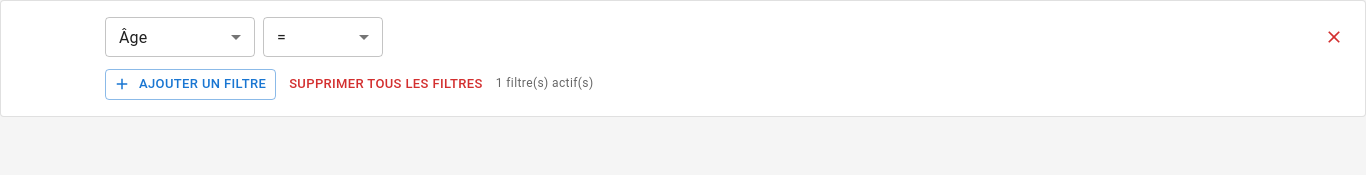
CustomFilterPanel › CustomFilterPanel component › uses column-specific filter operators when available
Press the mouse on the dropdown labelled "=" at (281, 37), box [277, 28, 286, 46]
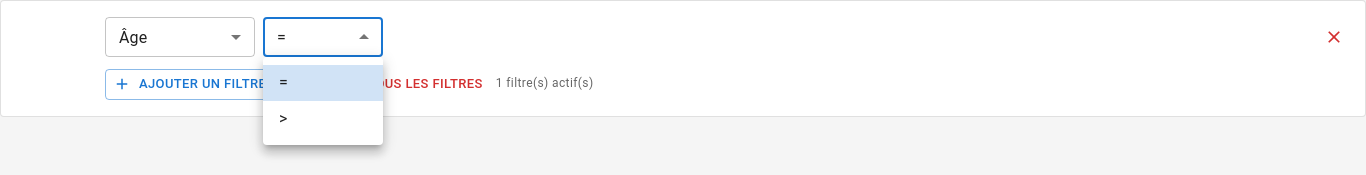
Now the option "=" is shown, box [263, 65, 383, 101]
Now the option ">" is shown, box [279, 109, 288, 128]
